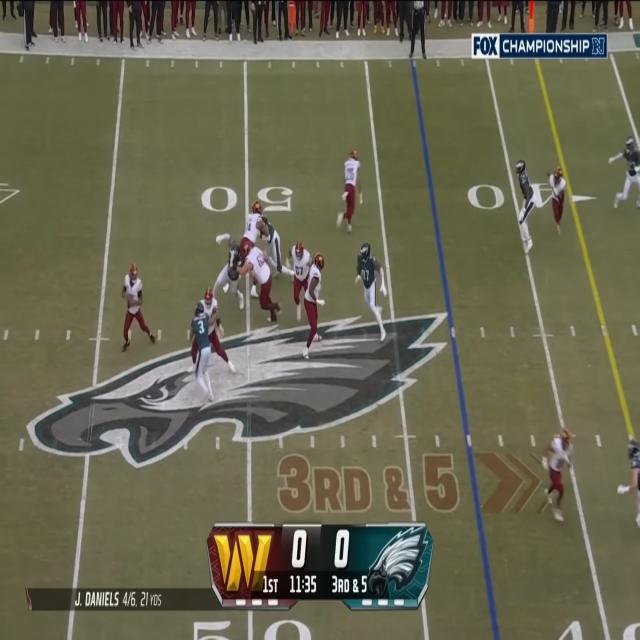Ball: (127, 292, 134, 311)
